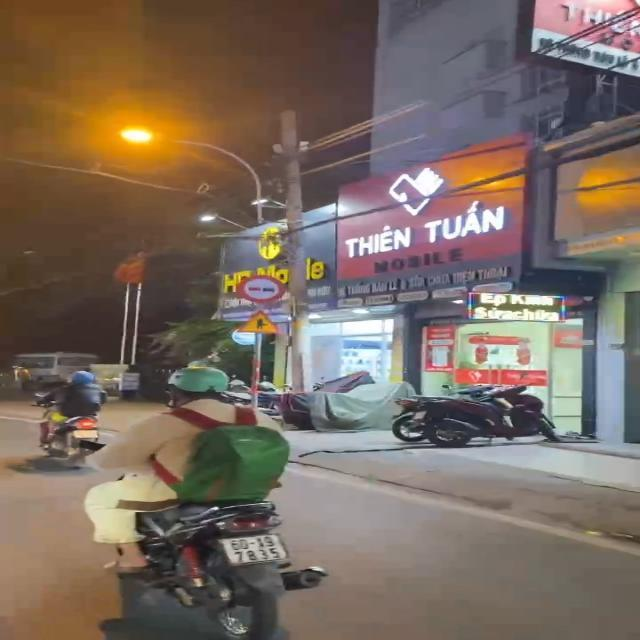125-cam-vuot: (236, 274, 286, 302)
207-giao-nhau-voi-duong-khong-uu-tien: (236, 309, 282, 336)
